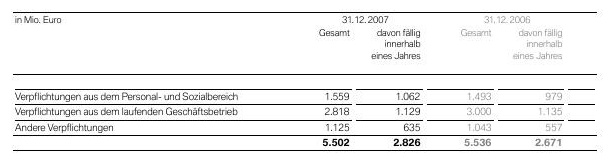table: (0, 0, 609, 161)
